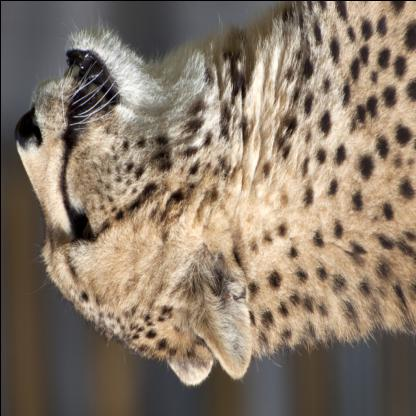leopard: (7, 6, 261, 394)
